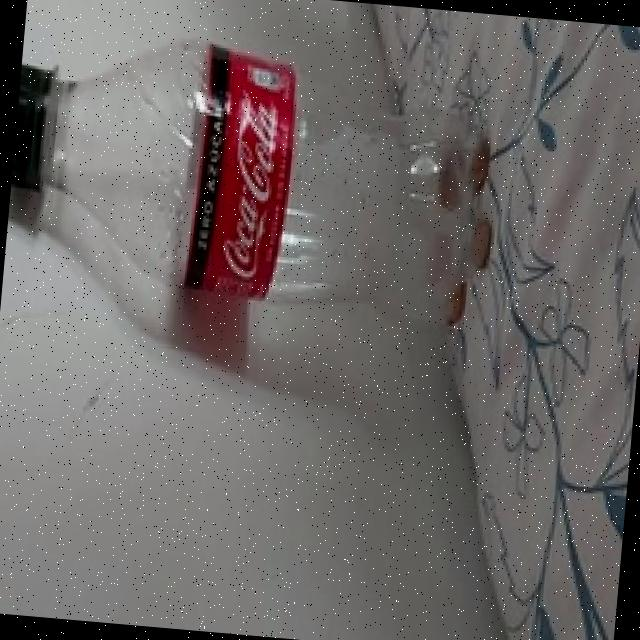bottle: (6, 20, 550, 338)
label: (176, 27, 302, 316)
